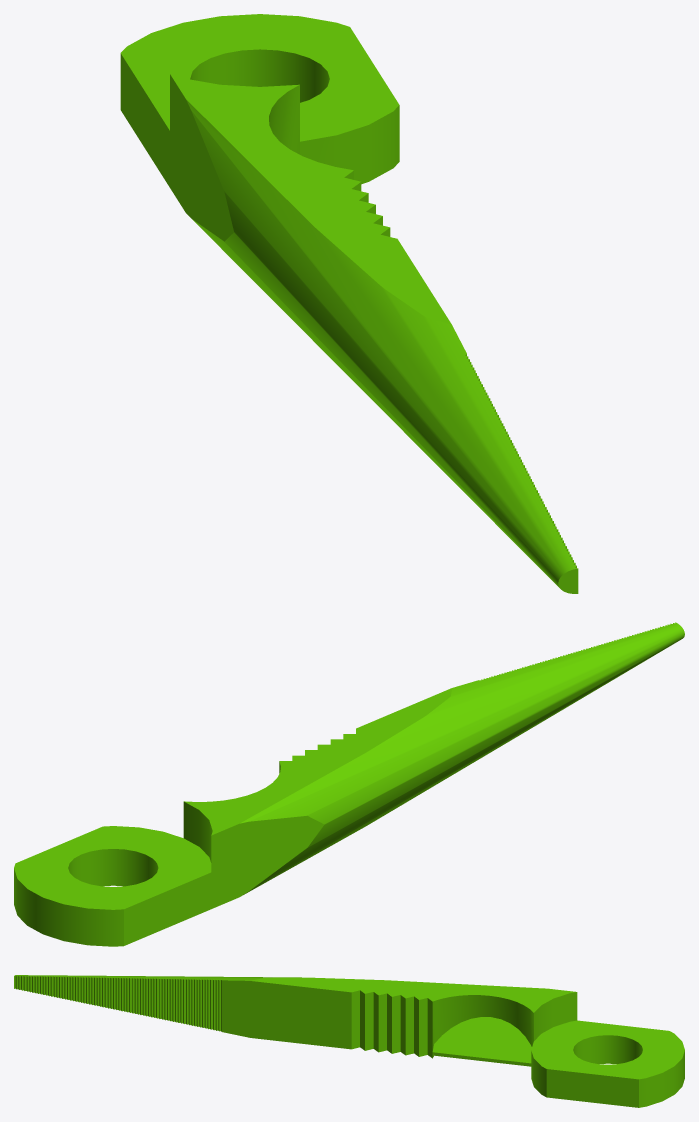
The model's file is original-2.obj.
3 views of the same model, one above another, from view 1: azimuth 30°, elevation 25°; view 2: azimuth 150°, elevation 25°; view 3: azimuth 270°, elevation 25° (orthographic). The views are drawn at different scales.
Parts seen in each view (by area): view 1: Group3/mesh1/mesh1-geometry#mesh1-geometry; view 2: Group3/mesh1/mesh1-geometry#mesh1-geometry; view 3: Group3/mesh1/mesh1-geometry#mesh1-geometry.
Boxes of the visible parts, box(x1,y1,x2,y2) form: Group3/mesh1/mesh1-geometry#mesh1-geometry: box(120, 14, 578, 593); Group3/mesh1/mesh1-geometry#mesh1-geometry: box(14, 622, 684, 946); Group3/mesh1/mesh1-geometry#mesh1-geometry: box(14, 975, 684, 1107).
Bounding box in the file's own units: 0.2924 × 0.0769 × 0.8207.
